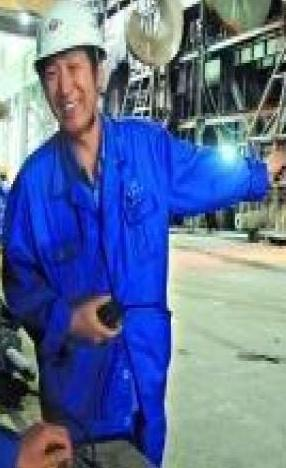hard-hat: (34, 2, 104, 61)
ppe-suit: (0, 44, 102, 468)
